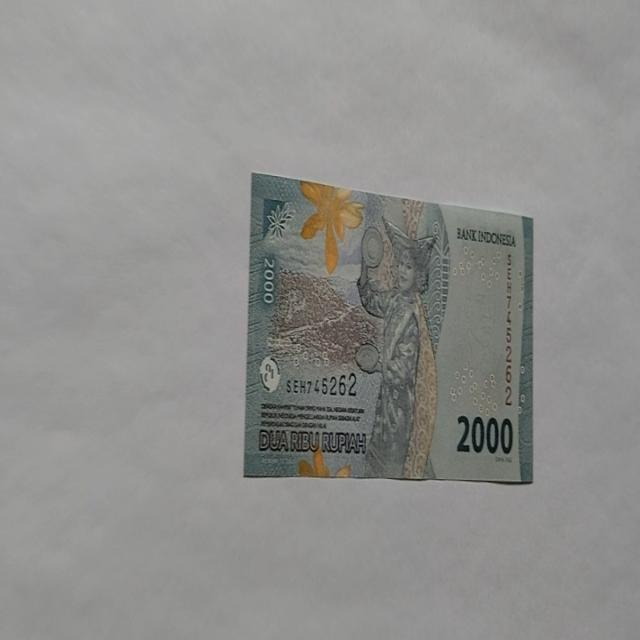dua ribu rupiah: (243, 172, 534, 484), (354, 214, 440, 478)
